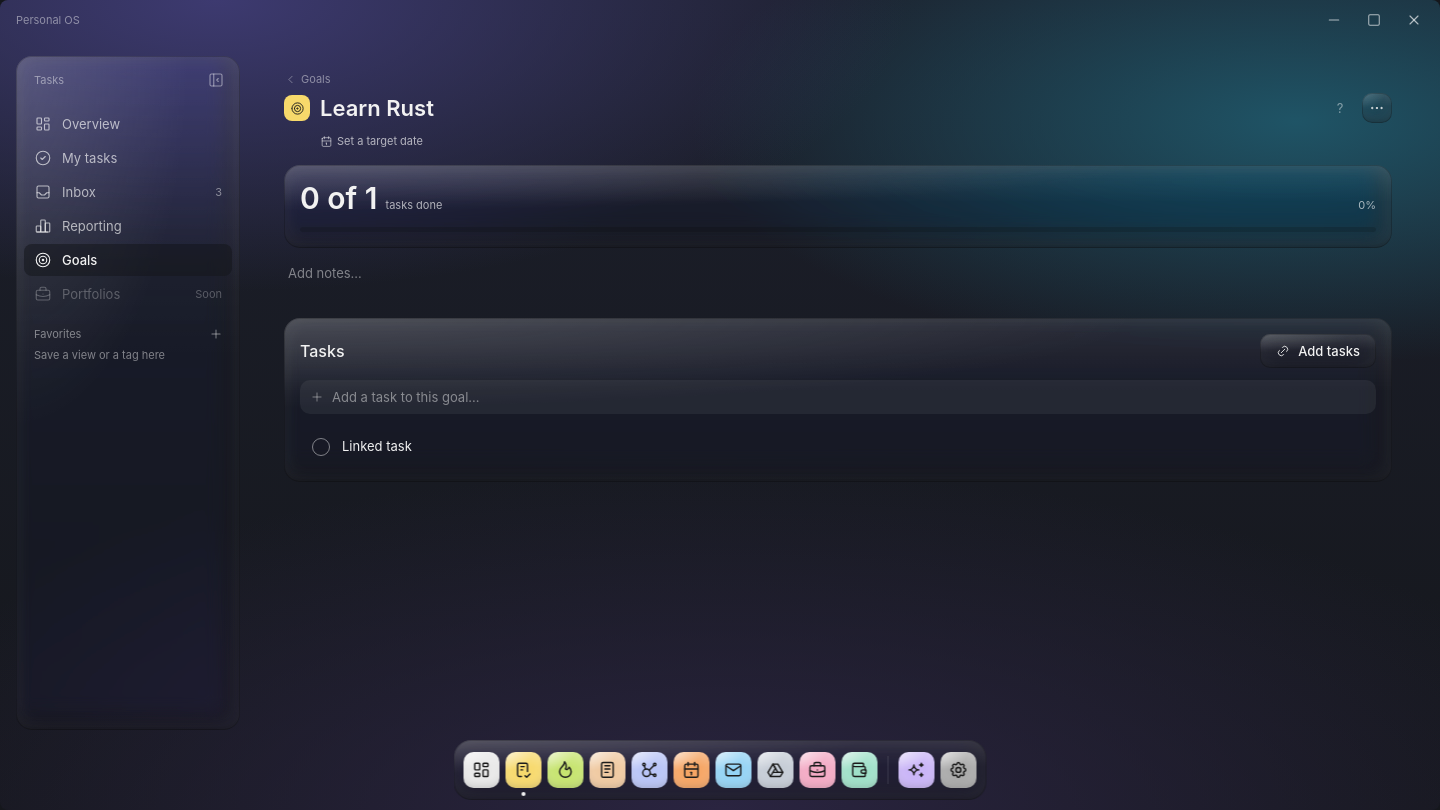
Test: the Add tasks popover › lists open tasks with a check on linked ones and the other goal in muted text
Check: the field named "Goal title" is shown, box top-left (316, 94), bottom-right (1318, 122)
Click the button "Add tasks".
click(1318, 351)  # box top-left (1260, 334), bottom-right (1376, 368)
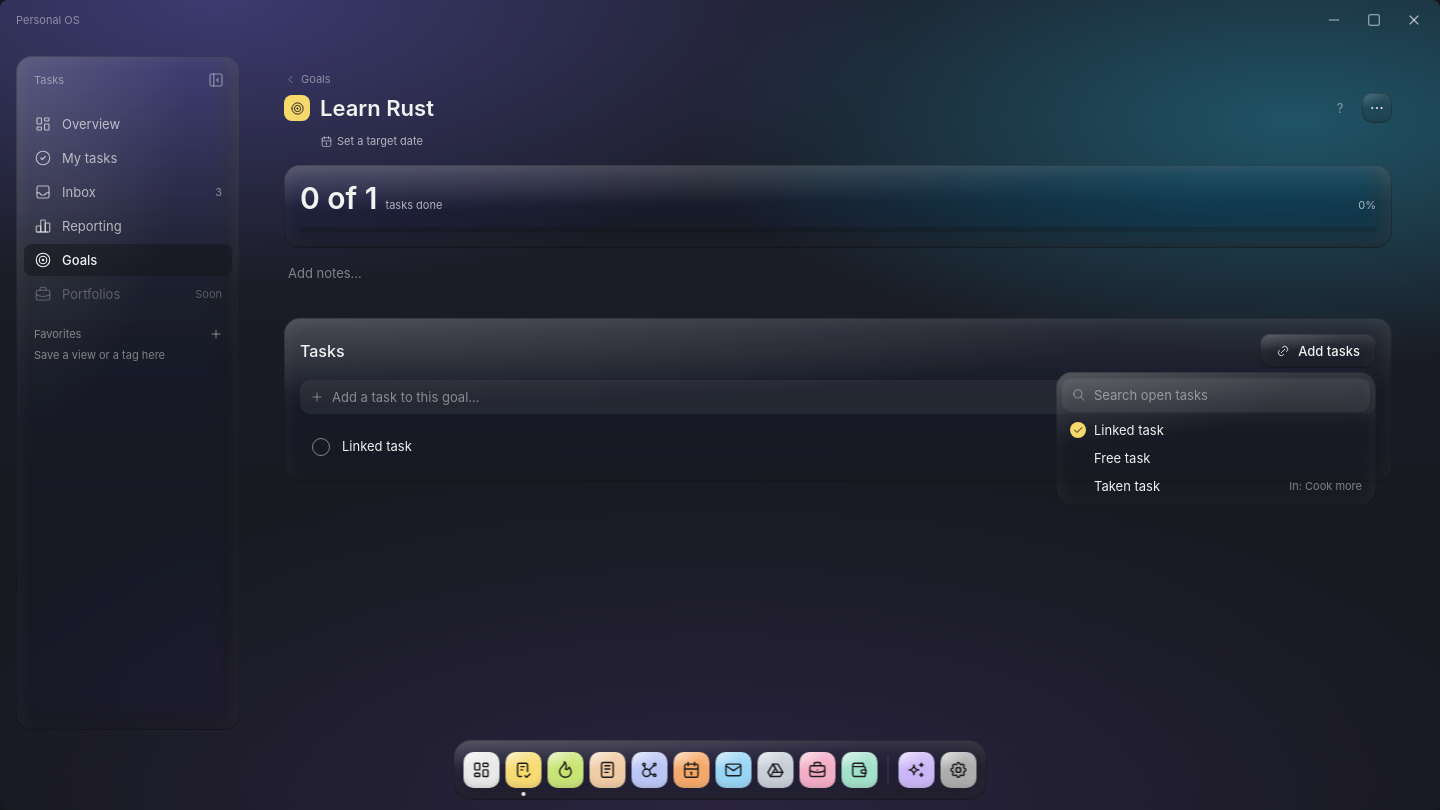
Check: the field labelled "Search open tasks" is shown, box top-left (1094, 386), bottom-right (1360, 404)
Check: the option "Free task" is shown, box top-left (1062, 444), bottom-right (1370, 472)
Check: the option "Taken task In: Cook more" is shown, box top-left (1062, 472), bottom-right (1370, 500)
